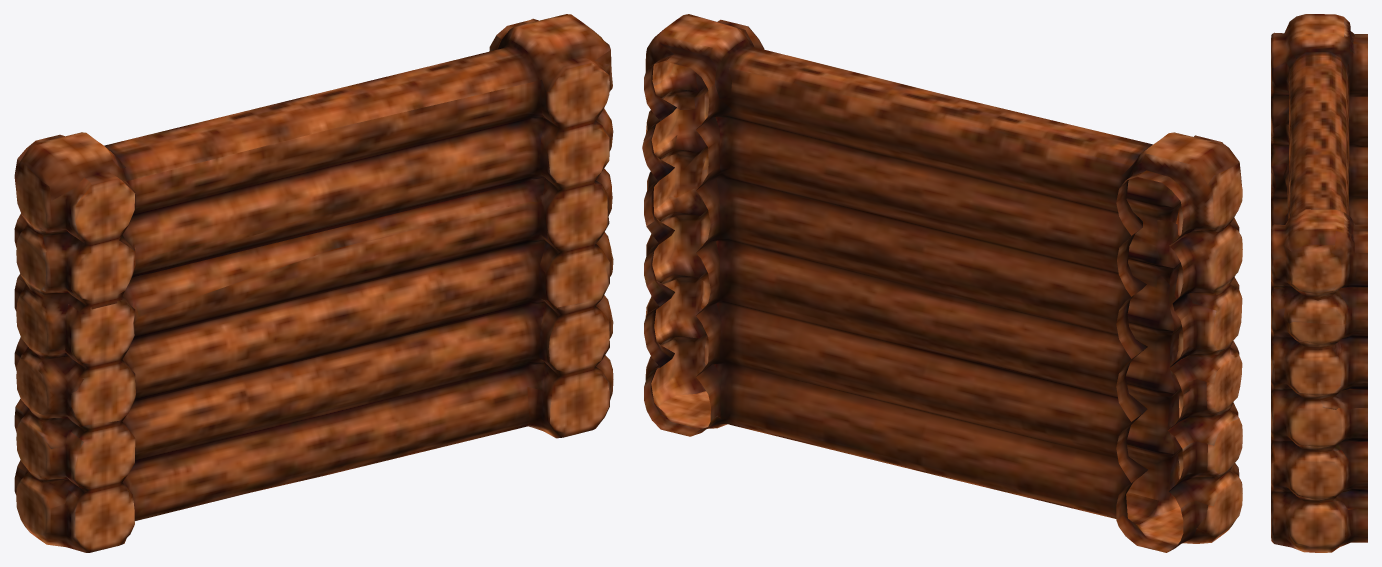
The model's file is HK_wall_plain.glb.
The picture shows the model from 3 angles, left to right: view 1: azimuth 30°, elevation 25°; view 2: azimuth 150°, elevation 25°; view 3: azimuth 270°, elevation 25°; orthographic projection. The views are drawn at different scales.
Visible parts, largest first — view 1: Mesh_0; view 2: Mesh_0; view 3: Mesh_0.
Part boxes in pixels (x1,y1,x2,y2): Mesh_0: [14, 14, 613, 552]; Mesh_0: [642, 14, 1242, 552]; Mesh_0: [1271, 14, 1367, 552].
Bounding box in the file's own units: 0.9526 × 0.6162 × 0.17.
1 material, 1 textured.
